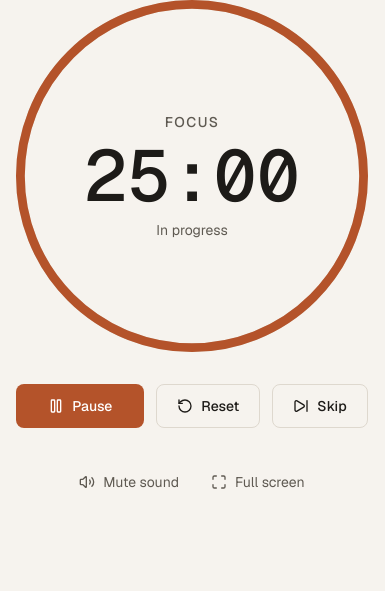
Test case: Timer › shows a server-side rejection without losing state
Click the button "Skip": [320, 406] box top-left (272, 384), bottom-right (368, 428)
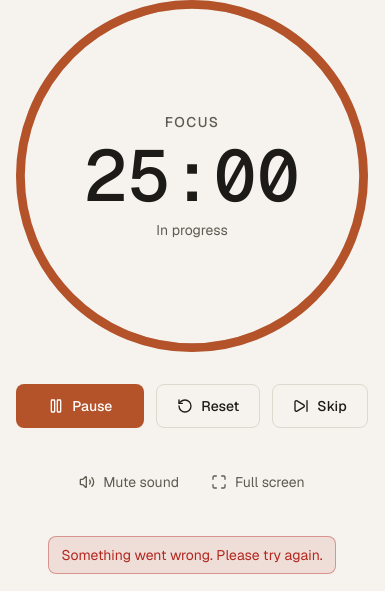
Expected: the button "Reset" is shown, top-left (156, 384), bottom-right (260, 428)
Expected: the message shows "Something went wrong", top-left (61, 546), bottom-right (323, 564)
